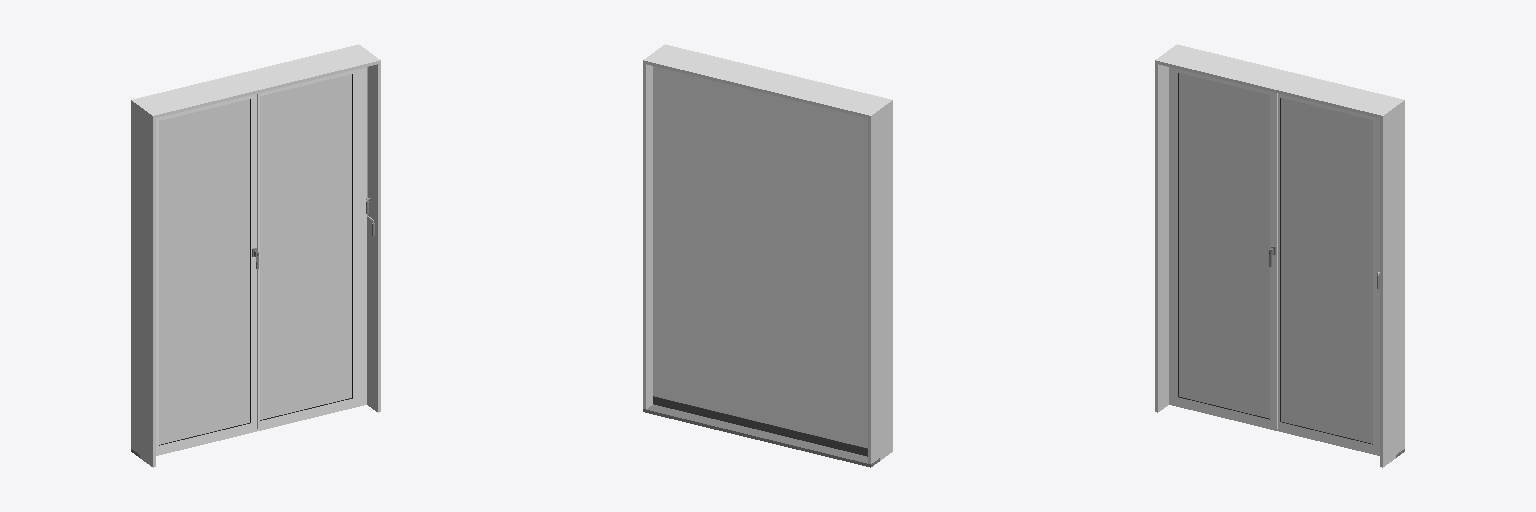
File: doubleFrenchWindow2.obj
The picture shows the model from 3 angles: view 1: azimuth 30°, elevation 25°; view 2: azimuth 150°, elevation 25°; view 3: azimuth 330°, elevation 25°; orthographic projection.
Parts seen in each view (by area): view 1: sweethome3d_opening_on_hinge_2_Window_Pane_2_wall_1_5_5_116_230, sweethome3d_opening_on_hinge_1_Window_Pane_1_wall_1_6_6_33_166, 46, 58, sweethome3d_opening_on_hinge_2_Inside_Inner_Frame_2_top_161_185, sweethome3d_opening_on_hinge_1_Inside_Inner_Frame_1_top_77_122, 6; view 2: sweethome3d_opening_on_rail_1_Roller_Shutter_back_179_266, 58, 46, 70, sweethome3d_opening_on_rail_1_Roller_Shutter_Foot_back_185_260; view 3: sweethome3d_opening_on_hinge_2_Window_Pane_2_wall_1_5_5_116_230, sweethome3d_opening_on_hinge_1_Window_Pane_1_wall_1_6_6_33_166, 46, sweethome3d_opening_on_hinge_1_Inside_Inner_Frame_1_top_77_122, 58, sweethome3d_opening_on_hinge_2_Inside_Inner_Frame_2_top_161_185, 6.
Part boxes in pixels (bbox=[...]): sweethome3d_opening_on_hinge_2_Window_Pane_2_wall_1_5_5_116_230: bbox=[260, 74, 351, 419]; sweethome3d_opening_on_hinge_1_Window_Pane_1_wall_1_6_6_33_166: bbox=[159, 99, 249, 444]; 46: bbox=[140, 52, 380, 467]; 58: bbox=[131, 44, 368, 454]; sweethome3d_opening_on_hinge_2_Inside_Inner_Frame_2_top_161_185: bbox=[257, 69, 360, 428]; sweethome3d_opening_on_hinge_1_Inside_Inner_Frame_1_top_77_122: bbox=[156, 94, 256, 453]; 6: bbox=[156, 67, 366, 455]; sweethome3d_opening_on_rail_1_Roller_Shutter_back_179_266: bbox=[653, 66, 867, 447]; 58: bbox=[643, 52, 881, 463]; 46: bbox=[655, 44, 892, 460]; 70: bbox=[643, 404, 879, 467]; sweethome3d_opening_on_rail_1_Roller_Shutter_Foot_back_185_260: bbox=[653, 396, 867, 456]; sweethome3d_opening_on_hinge_2_Window_Pane_2_wall_1_5_5_116_230: bbox=[1281, 98, 1372, 443]; sweethome3d_opening_on_hinge_1_Window_Pane_1_wall_1_6_6_33_166: bbox=[1179, 73, 1269, 418]; 46: bbox=[1155, 52, 1395, 467]; sweethome3d_opening_on_hinge_1_Inside_Inner_Frame_1_top_77_122: bbox=[1171, 68, 1277, 428]; 58: bbox=[1167, 44, 1404, 454]; sweethome3d_opening_on_hinge_2_Inside_Inner_Frame_2_top_161_185: bbox=[1278, 94, 1379, 453]; 6: bbox=[1169, 67, 1379, 455].
Size of the model in its own units: 150 by 221 by 25.